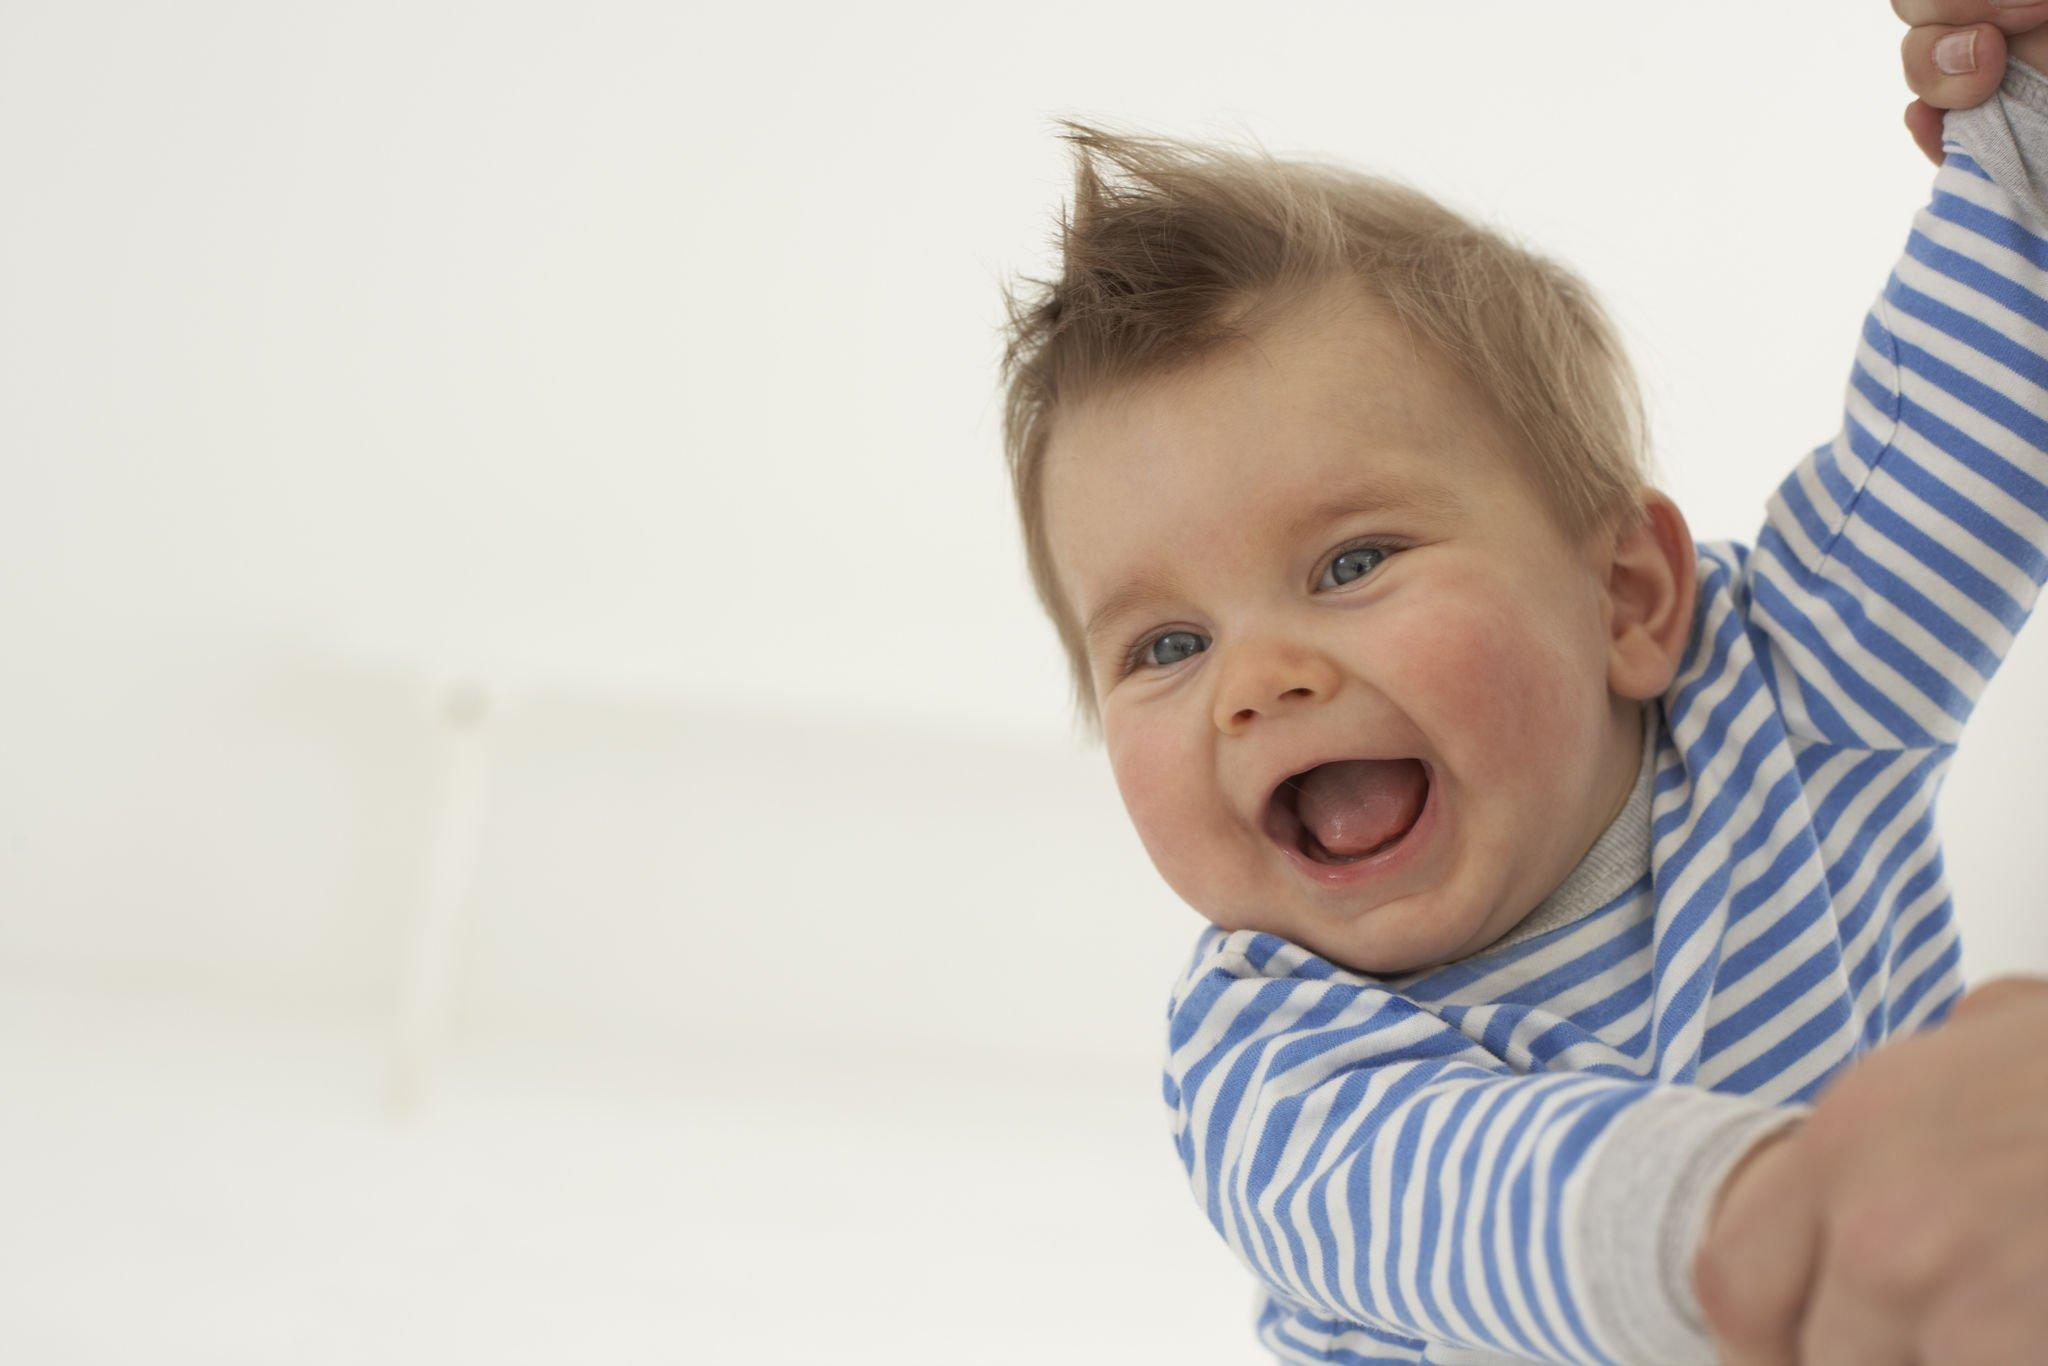Healthy: (983, 302, 1730, 976)
